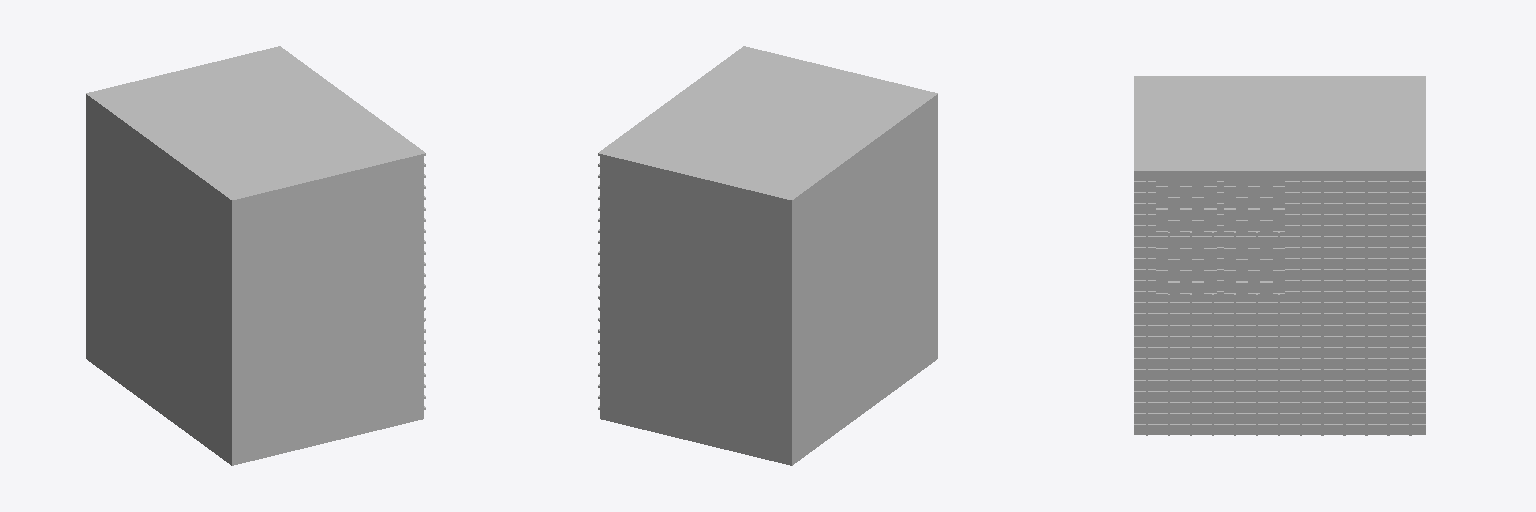
The model's file is 3d fon 1.1-0.obj.
3 views of the same model, side by side, from view 1: azimuth 30°, elevation 25°; view 2: azimuth 150°, elevation 25°; view 3: azimuth 270°, elevation 25° (orthographic).
Parts seen in each view (by area): view 1: object 1; view 2: object 1; view 3: object 1.
Part boxes in pixels (left/top/right/bottom): object 1: left=86, top=46, right=425, bottom=465; object 1: left=598, top=46, right=937, bottom=465; object 1: left=1134, top=76, right=1425, bottom=435.
Size of the model in its own units: 9.2 by 12 by 12.